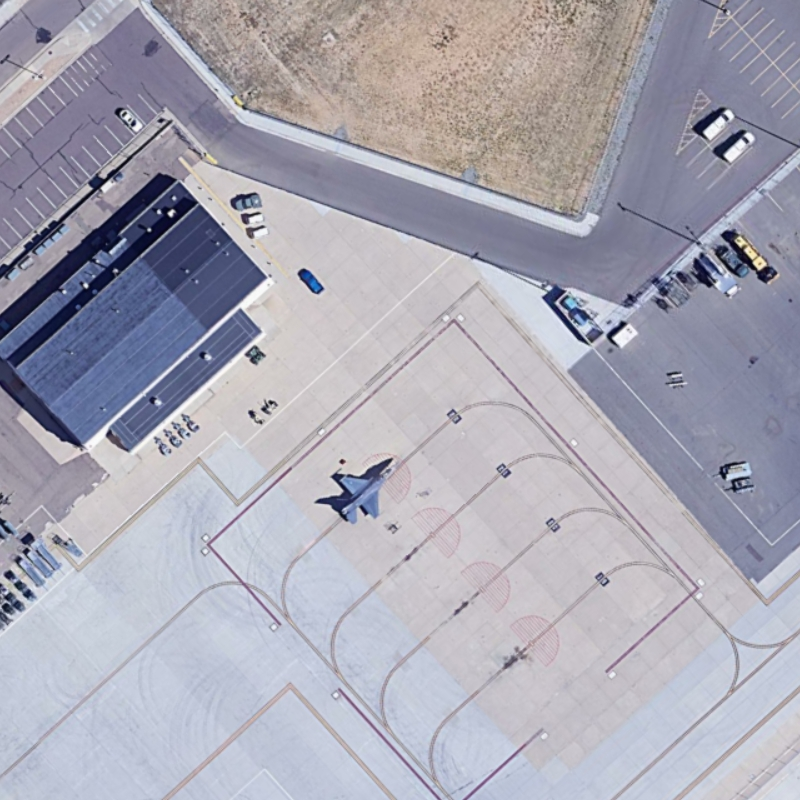A5: (323, 451, 399, 533)
